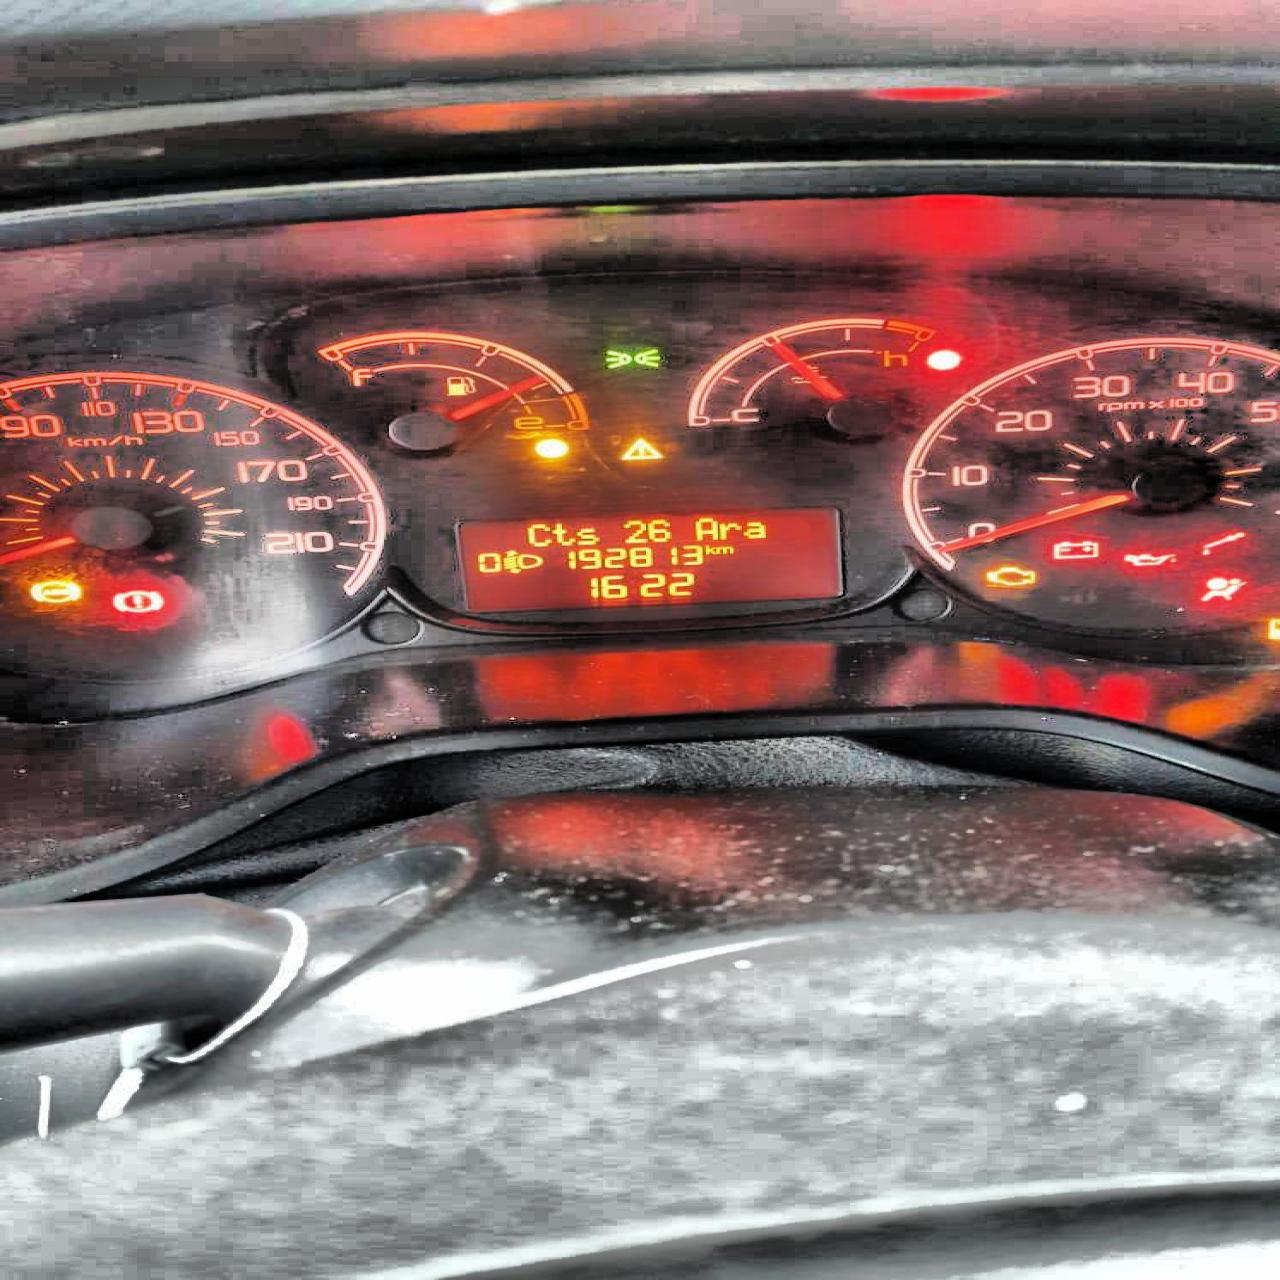0: (476, 551, 498, 572)
1: (583, 576, 599, 599), (564, 549, 576, 568), (666, 545, 676, 564)
2: (622, 517, 648, 543), (639, 572, 665, 598), (669, 568, 693, 595), (604, 545, 626, 567)
3: (680, 545, 701, 565)
6: (600, 573, 627, 599), (648, 517, 670, 542)
8: (627, 545, 651, 565)
9: (578, 547, 601, 568)
X: (693, 516, 720, 540), (524, 524, 552, 546), (552, 522, 574, 545), (717, 519, 738, 538), (576, 526, 598, 544), (744, 522, 764, 538), (715, 545, 731, 554), (703, 543, 716, 554)
odometer: (457, 505, 845, 611)
